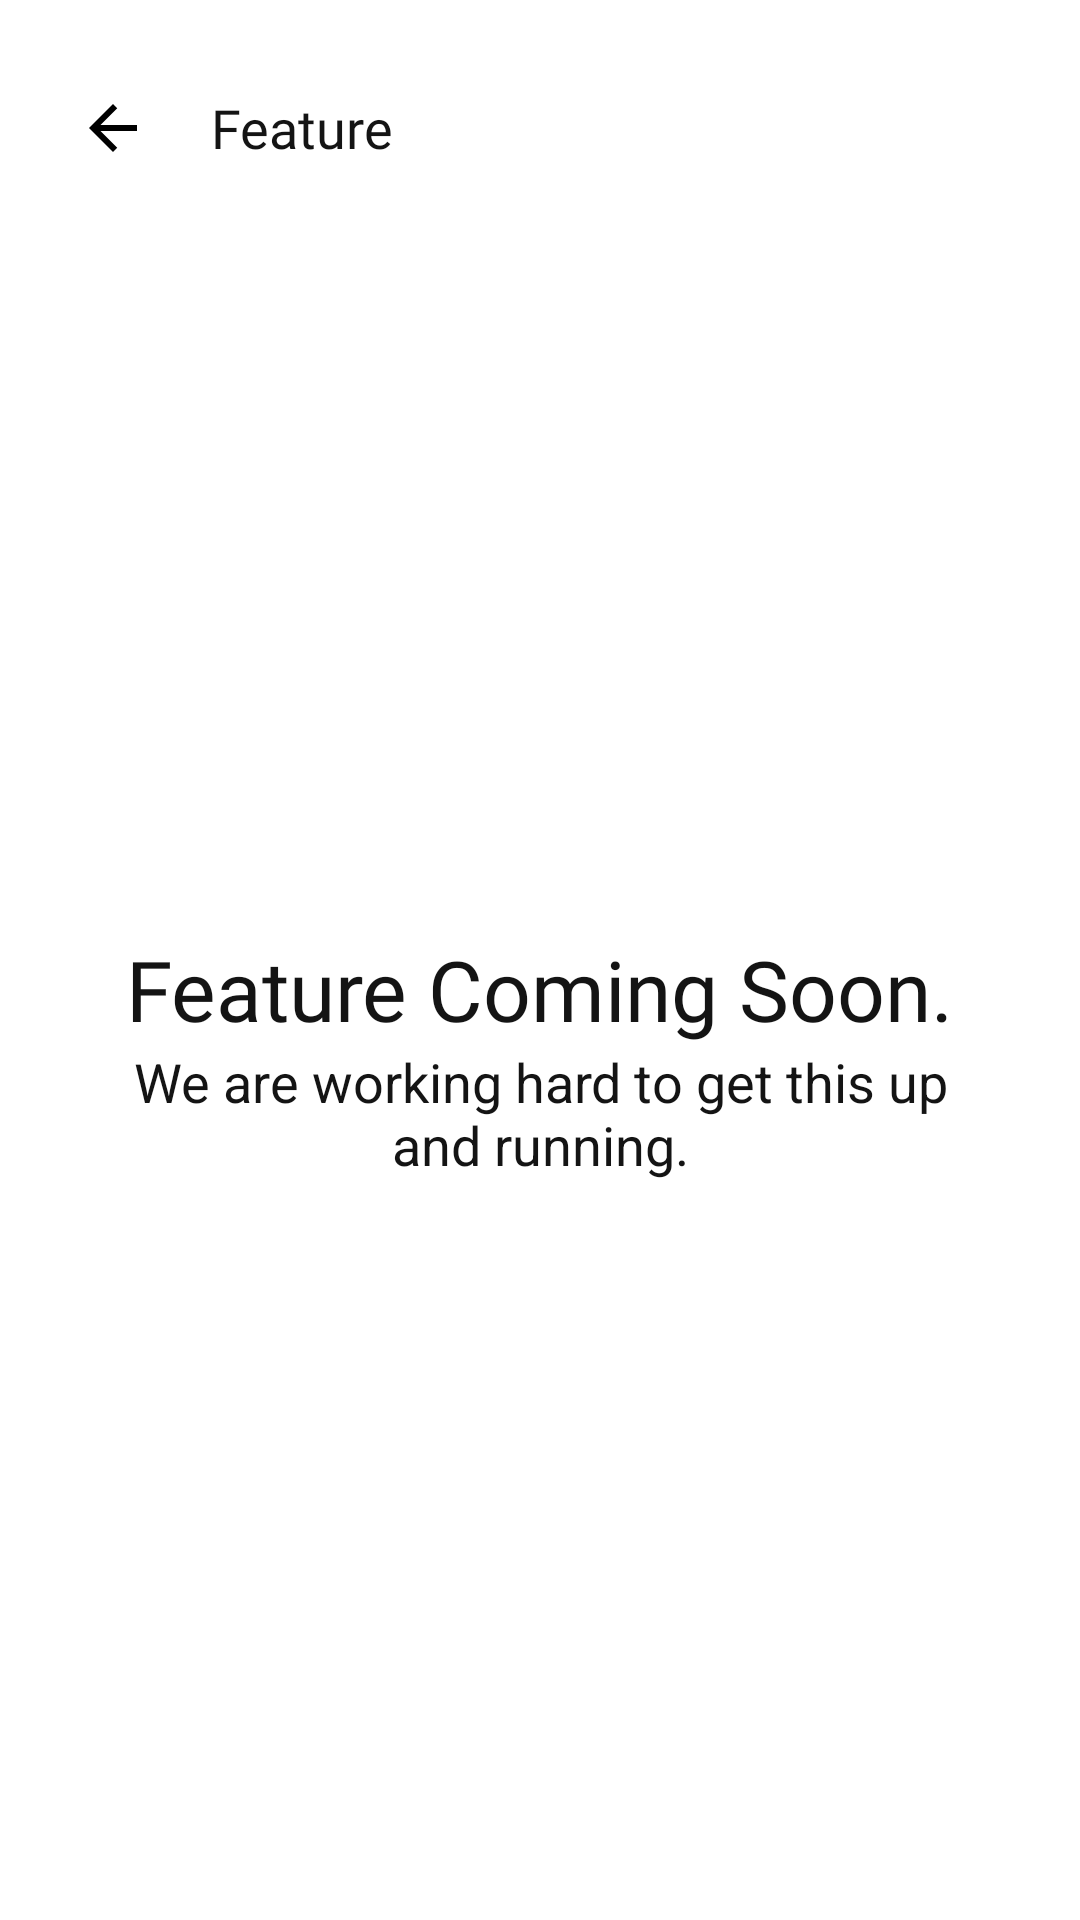

Screen size 1080x1920. Icon name, then its center in pixels as [x,y]:
backbtn: [113,128]
